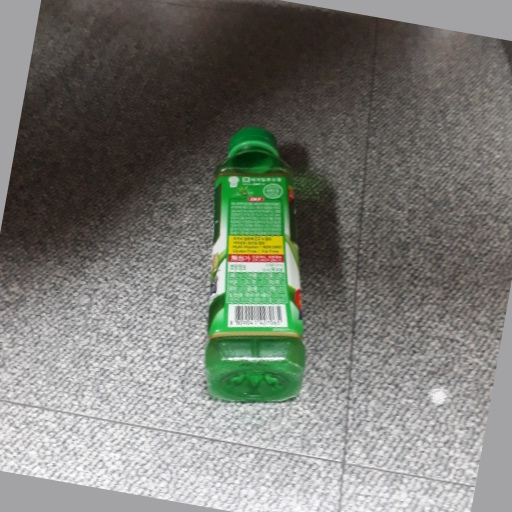Plastic_0: (209, 126, 312, 404)
